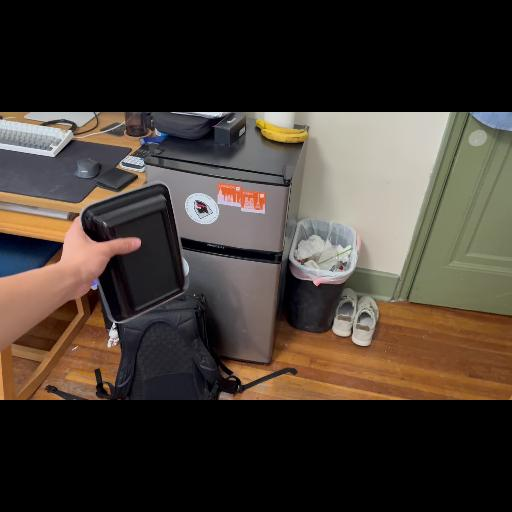rigid_plastic_container: (80, 180, 188, 324)
